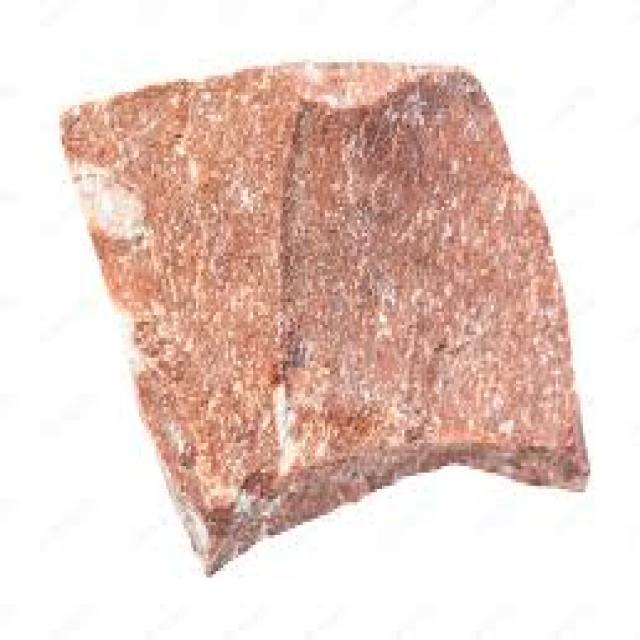Metamorphic: (50, 62, 600, 568)
